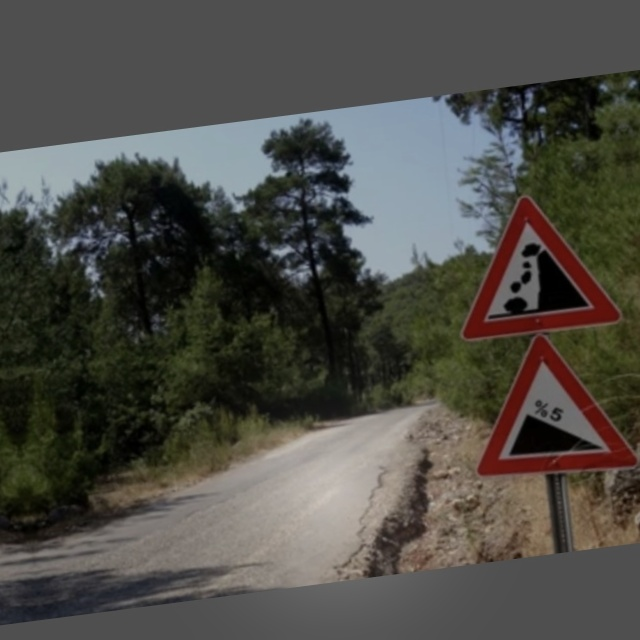Falling_Rocks: (450, 181, 617, 339)
